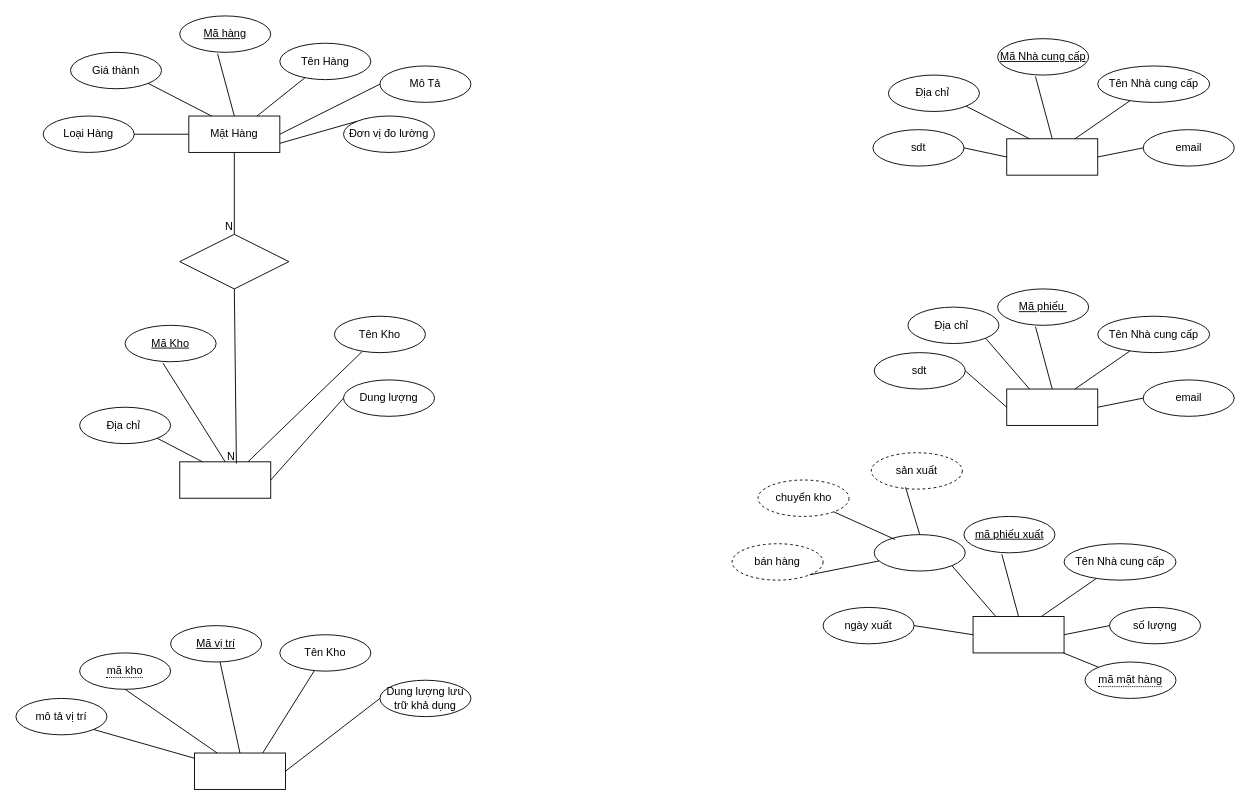
The diagram is 1250 pixels wide and 805 high, and some of its shapes have lost their labels. The box of each missing label's shape, as (x1, y1, x2, y2) in pixels:
Kho Hàng: (179, 461, 271, 498)
mục đích: (873, 534, 965, 571)
Nhap kho: (1006, 388, 1098, 425)
Nhà cung cấp: (1006, 138, 1098, 175)
nhập hàng: (179, 233, 289, 289)
vị trí lưu trữ: (194, 752, 285, 789)
Xuat kho: (972, 616, 1064, 653)
